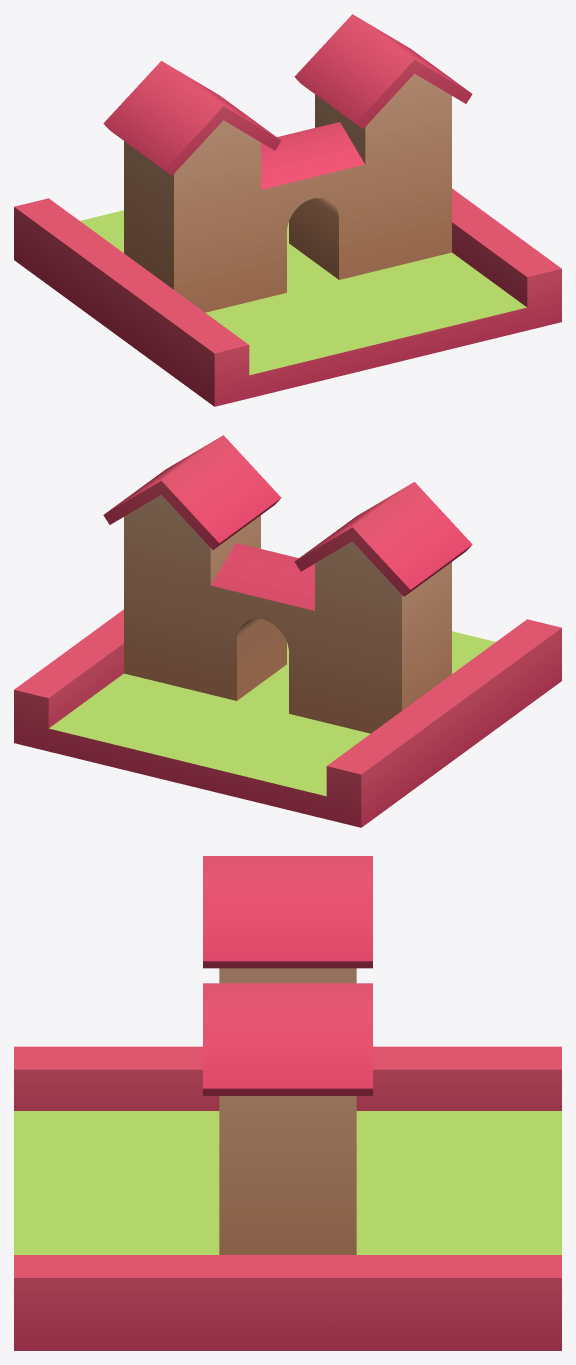
The model's file is castle.fbx.
The picture shows the model from 3 angles, top to bottom: view 1: azimuth 30°, elevation 25°; view 2: azimuth 150°, elevation 25°; view 3: azimuth 270°, elevation 25°; orthographic projection. The views are drawn at different scales.
Visible parts, largest first — view 1: castle; view 2: castle; view 3: castle.
Part boxes in pixels (x1,y1,x2,y2): castle: (14, 14, 561, 406); castle: (14, 435, 561, 827); castle: (14, 856, 561, 1350).
Size of the model in its own units: 99.99 by 63.5 by 99.99.
